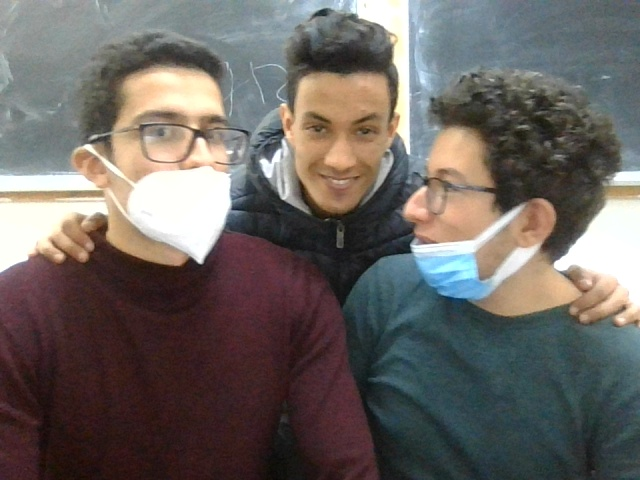mask_weared_incorrect: (414, 76, 580, 311), (77, 36, 240, 269)
without_mask: (285, 18, 406, 224)
